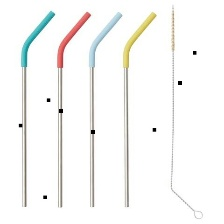drinking_straw: (116, 8, 164, 211), (15, 6, 57, 210), (53, 9, 94, 209), (86, 7, 124, 210)
